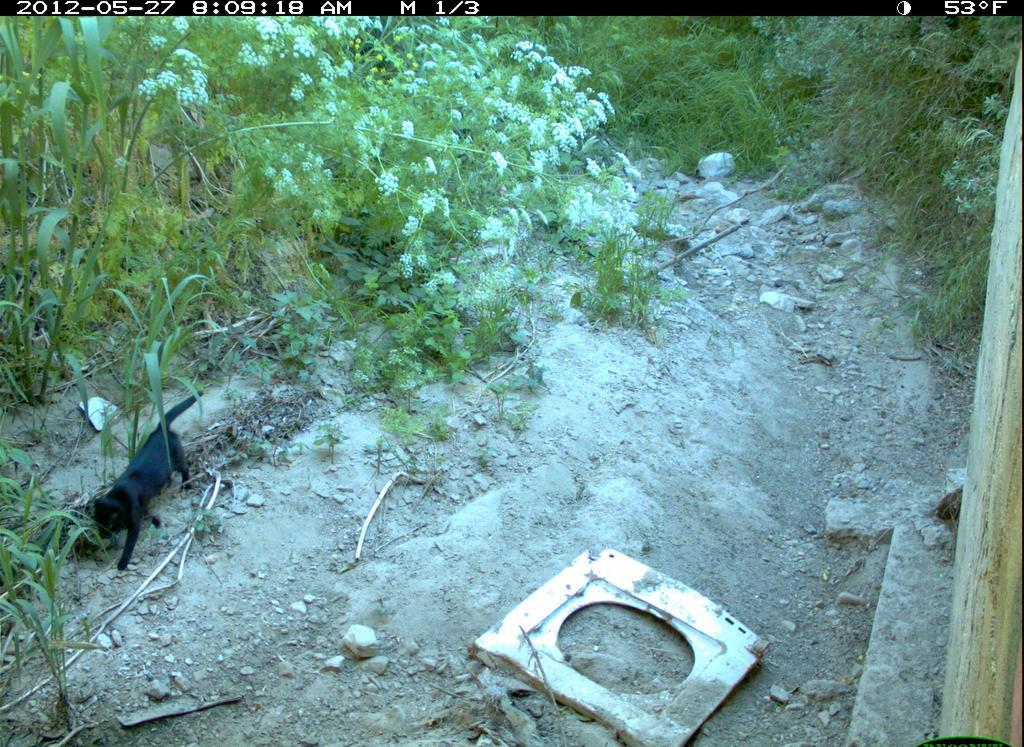cat: (84, 390, 207, 575)
